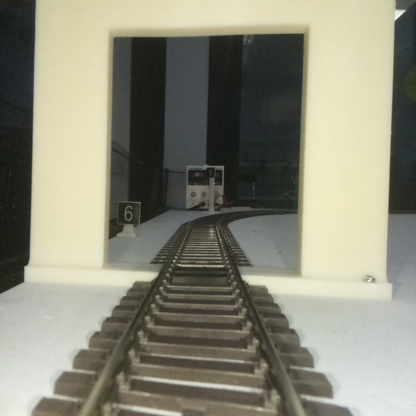black-stop-6: (117, 202, 139, 236)
